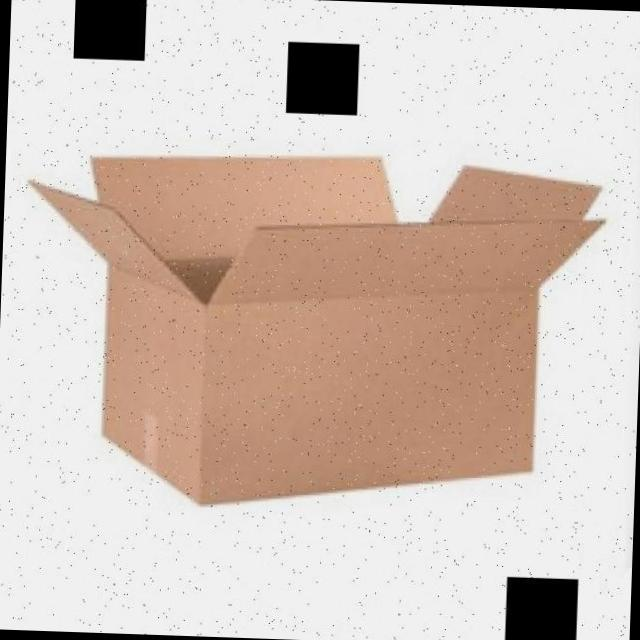box: (8, 122, 619, 533)
